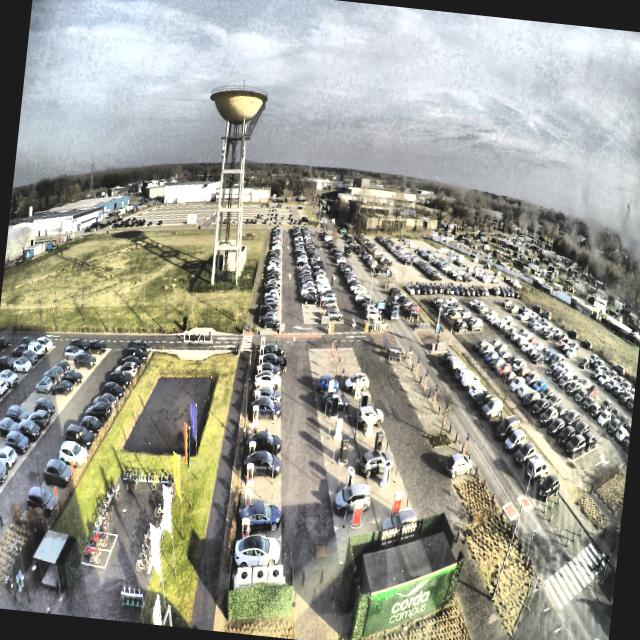cabinet: (237, 564, 282, 582)
car: (233, 534, 281, 570), (237, 499, 281, 537), (245, 451, 282, 476), (248, 396, 283, 422), (249, 383, 281, 407), (254, 371, 281, 391), (258, 353, 285, 369), (262, 342, 285, 358), (254, 362, 282, 373)
parking: (233, 538, 280, 576), (236, 508, 280, 541), (239, 482, 280, 510), (242, 460, 281, 484), (244, 440, 280, 463), (247, 423, 280, 441), (248, 407, 279, 425), (251, 393, 280, 408), (252, 378, 279, 394), (254, 366, 280, 380), (256, 348, 280, 358), (255, 357, 281, 365)
supercharger: (241, 518, 250, 542), (244, 489, 252, 511), (249, 441, 256, 458), (246, 463, 253, 479), (252, 407, 258, 424), (251, 424, 257, 440), (255, 378, 261, 392), (254, 391, 259, 407), (257, 366, 262, 377), (260, 337, 265, 347), (258, 355, 263, 364), (259, 347, 264, 356)
